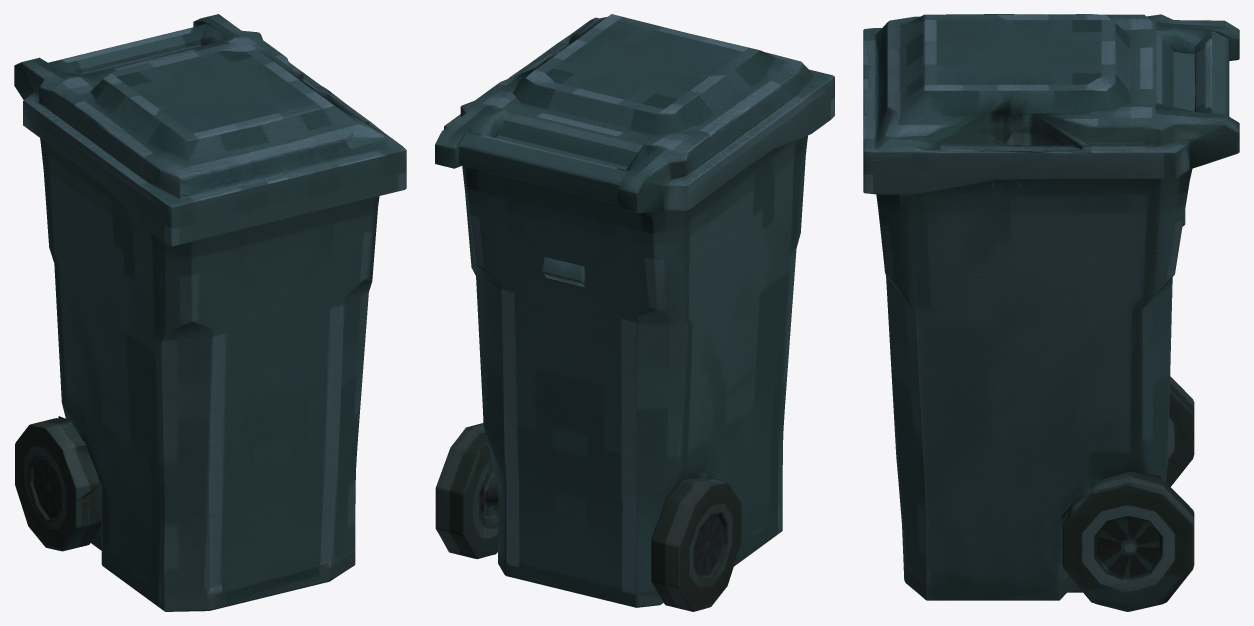
The model's file is PROP_WHEELIEBIN.glb.
3 views of the same model, side by side, from view 1: azimuth 30°, elevation 25°; view 2: azimuth 150°, elevation 25°; view 3: azimuth 270°, elevation 25° (orthographic). The views are drawn at different scales.
Bounding box in the file's own units: 1.02 × 1.91 × 1.3.
1 material, 1 textured.
